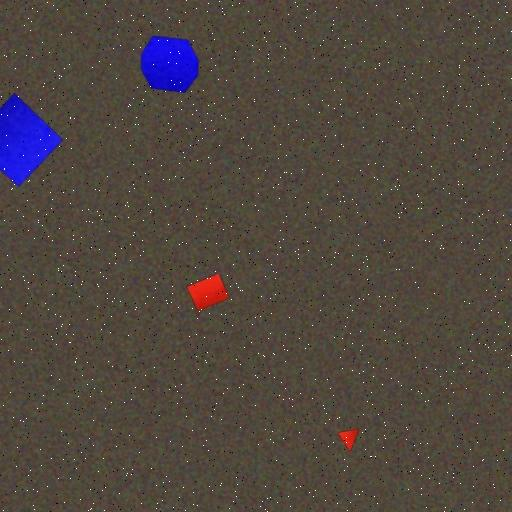BLUE_SQUARE: (0, 93, 64, 187)
RED_SQUARE: (186, 273, 230, 312)
